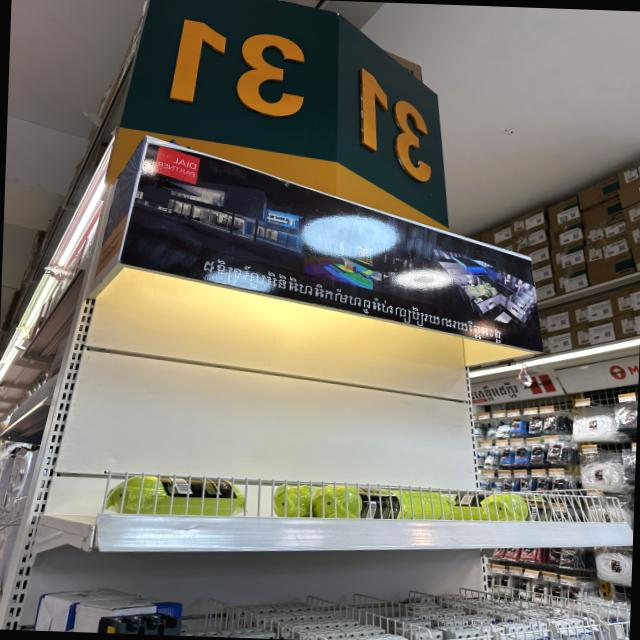Yolov11kh: (198, 253, 509, 346)
